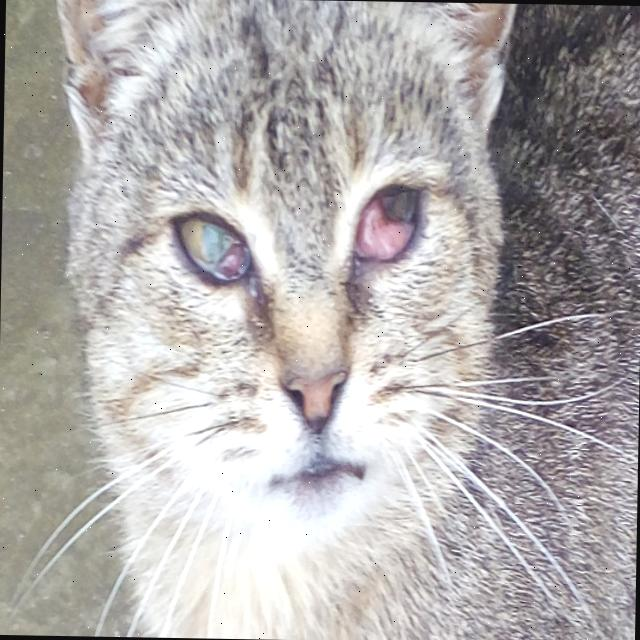cat-eye: (326, 138, 438, 318), (142, 196, 270, 340)
